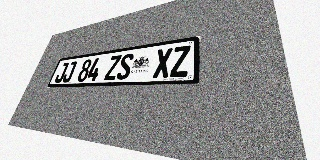4: (86, 57, 103, 81)
8: (76, 59, 93, 82)
J: (61, 61, 77, 83), (54, 62, 69, 83)
S: (116, 53, 134, 80)
X: (152, 48, 173, 78)
Z: (170, 45, 191, 77), (104, 55, 122, 80)
